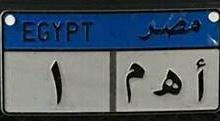1: (49, 60, 63, 103)
alif: (191, 56, 210, 103)
haa: (152, 67, 186, 99)
meem: (121, 60, 147, 107)
